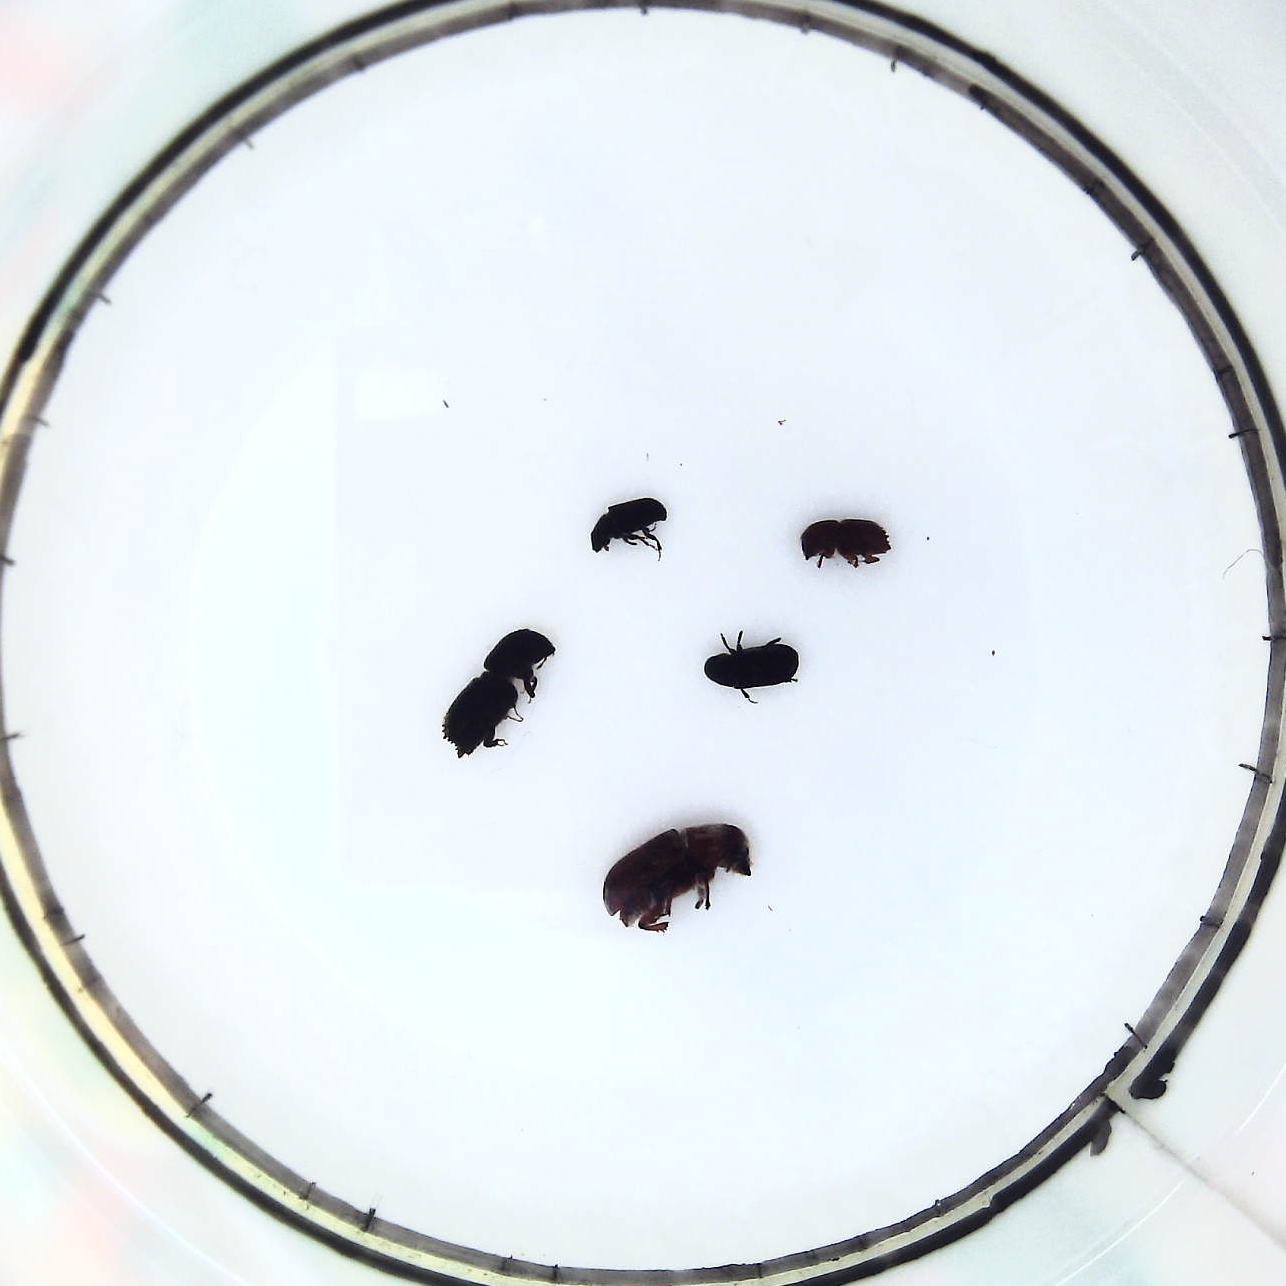Boerner: (442, 625, 562, 764)
Leconte: (603, 815, 753, 937)
armandi: (696, 630, 808, 710)
coleoptera: (588, 493, 674, 562)
linnaeus: (793, 515, 901, 576)
